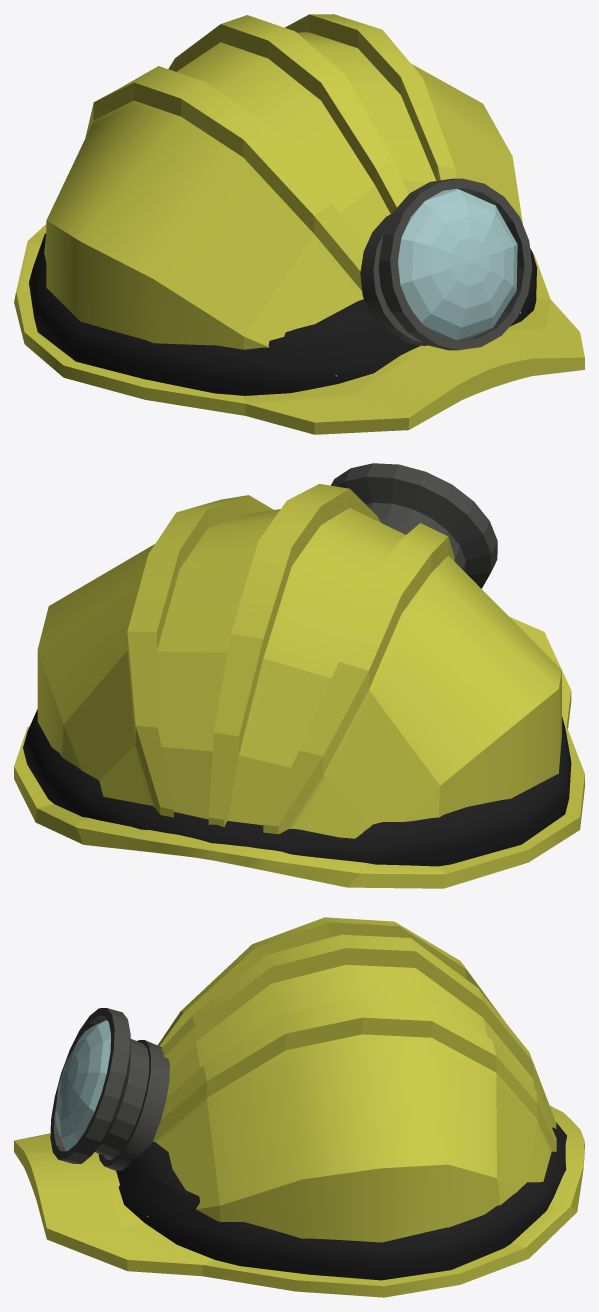
The model's file is miner.fbx.
The picture shows the model from 3 angles, top to bottom: view 1: azimuth 30°, elevation 25°; view 2: azimuth 150°, elevation 25°; view 3: azimuth 270°, elevation 25°; orthographic projection. The views are drawn at different scales.
Parts seen in each view (by area): view 1: pCube13, pTorus2, pSphere33, pCylinder5; view 2: pCube13, pTorus2, pCylinder5; view 3: pCube13, pTorus2, pCylinder5, pSphere33.
Part boxes in pixels (x1,y1,x2,y2): pCube13: (14,14,584,434); pTorus2: (29,233,536,395); pSphere33: (398,188,517,340); pCylinder5: (360,178,532,350); pCube13: (14,484,584,888); pTorus2: (23,709,571,866); pCylinder5: (331,463,497,588); pCube13: (14,917,584,1297); pTorus2: (116,1122,566,1280); pCylinder5: (50,1008,169,1170); pSphere33: (55,1020,110,1151).
Size of the model in its own units: 3.17 by 1.68 by 3.52.
